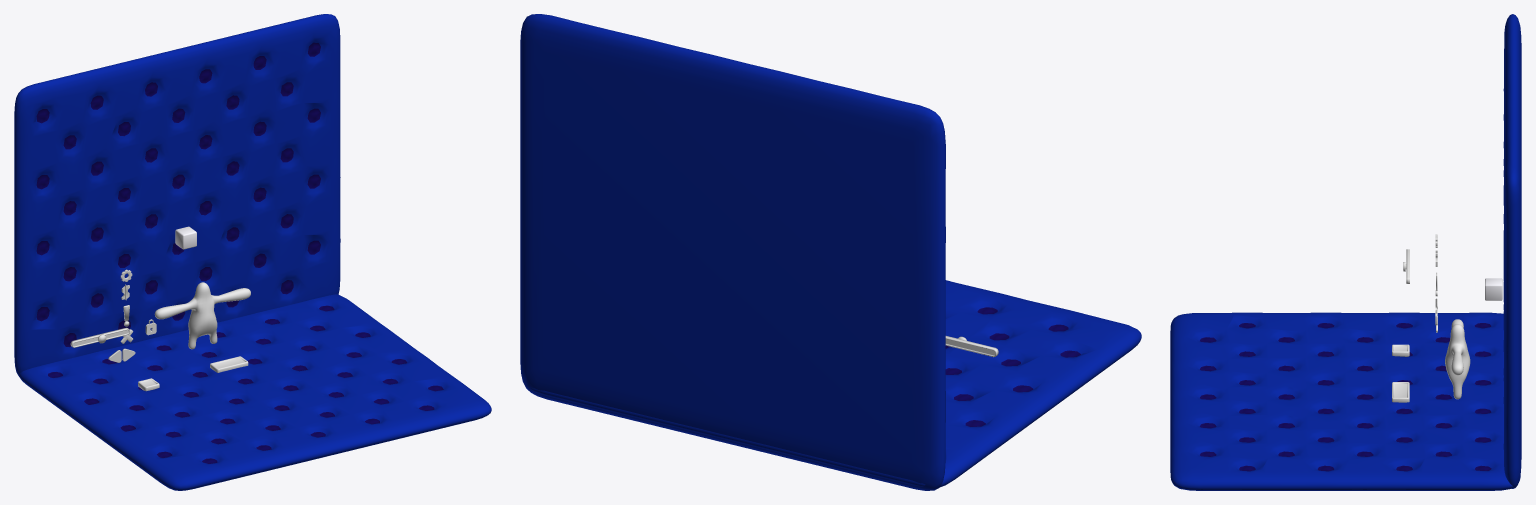
3 views of the same model, side by side, from view 1: azimuth 30°, elevation 25°; view 2: azimuth 150°, elevation 25°; view 3: azimuth 270°, elevation 25° (orthographic). The views are drawn at different scales.
Visible parts, largest first — view 1: Cube.003, Cube.002, Cube; view 2: Cube.003, Cube.002; view 3: Cube.002, Cube.003, Cube, Cube.001.
Part boxes in pixels (left/top/right/bottom): Cube.003: left=14, top=14, right=340, bottom=376; Cube.002: left=19, top=294, right=491, bottom=490; Cube: left=154, top=282, right=250, bottom=349; Cube.003: left=520, top=14, right=945, bottom=490; Cube.002: left=530, top=280, right=1141, bottom=487; Cube.002: left=1170, top=312, right=1520, bottom=490; Cube.003: left=1503, top=14, right=1521, bottom=488; Cube: left=1445, top=319, right=1470, bottom=399; Cube.001: left=1485, top=278, right=1502, bottom=300.
Size of the model in its own units: 4566 by 3945 by 3953.
